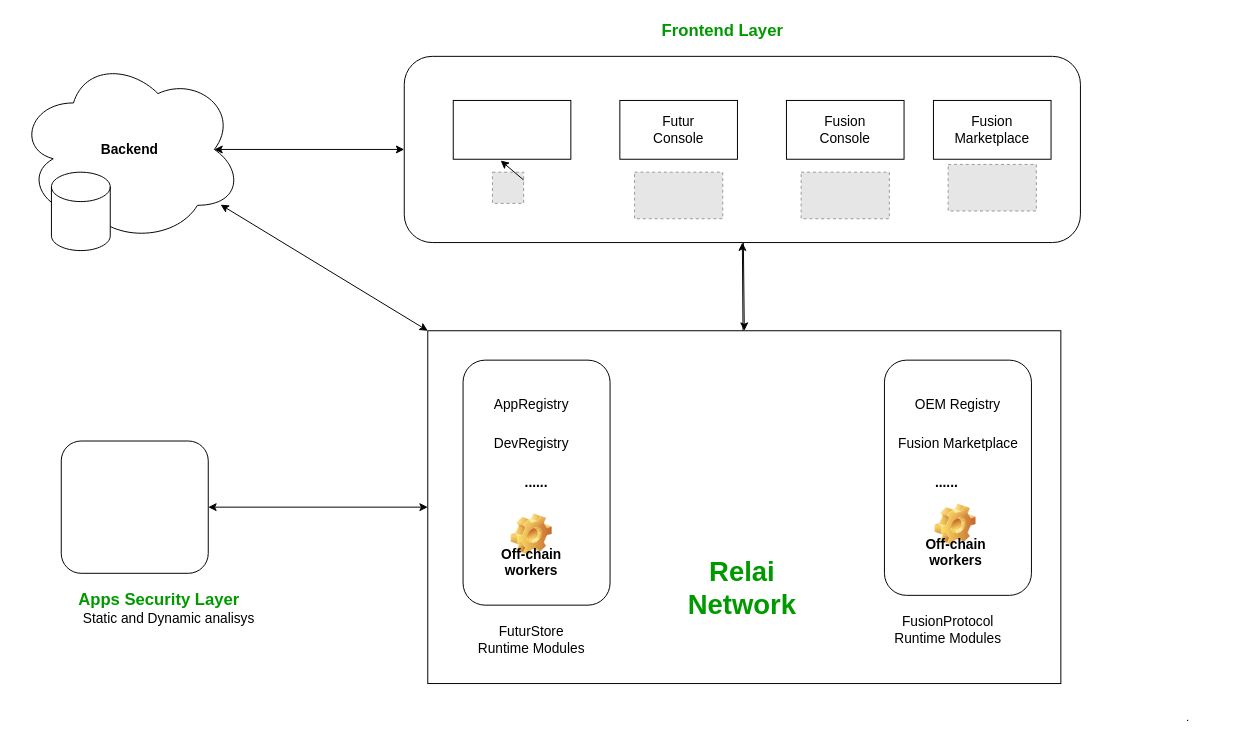
Some shapes in this 1235 by 749 pixel diagram are drawn without their labels. Grey dashed boxes stand in for pictures. Here are the shapes that lost their labels. From the top down, the centre of each, then its label:
At [511,129]: "FuturStore".
At [80,211]: "Storage".
At [134,506]: "SAST/DAST Module (MobSFAPI)".
